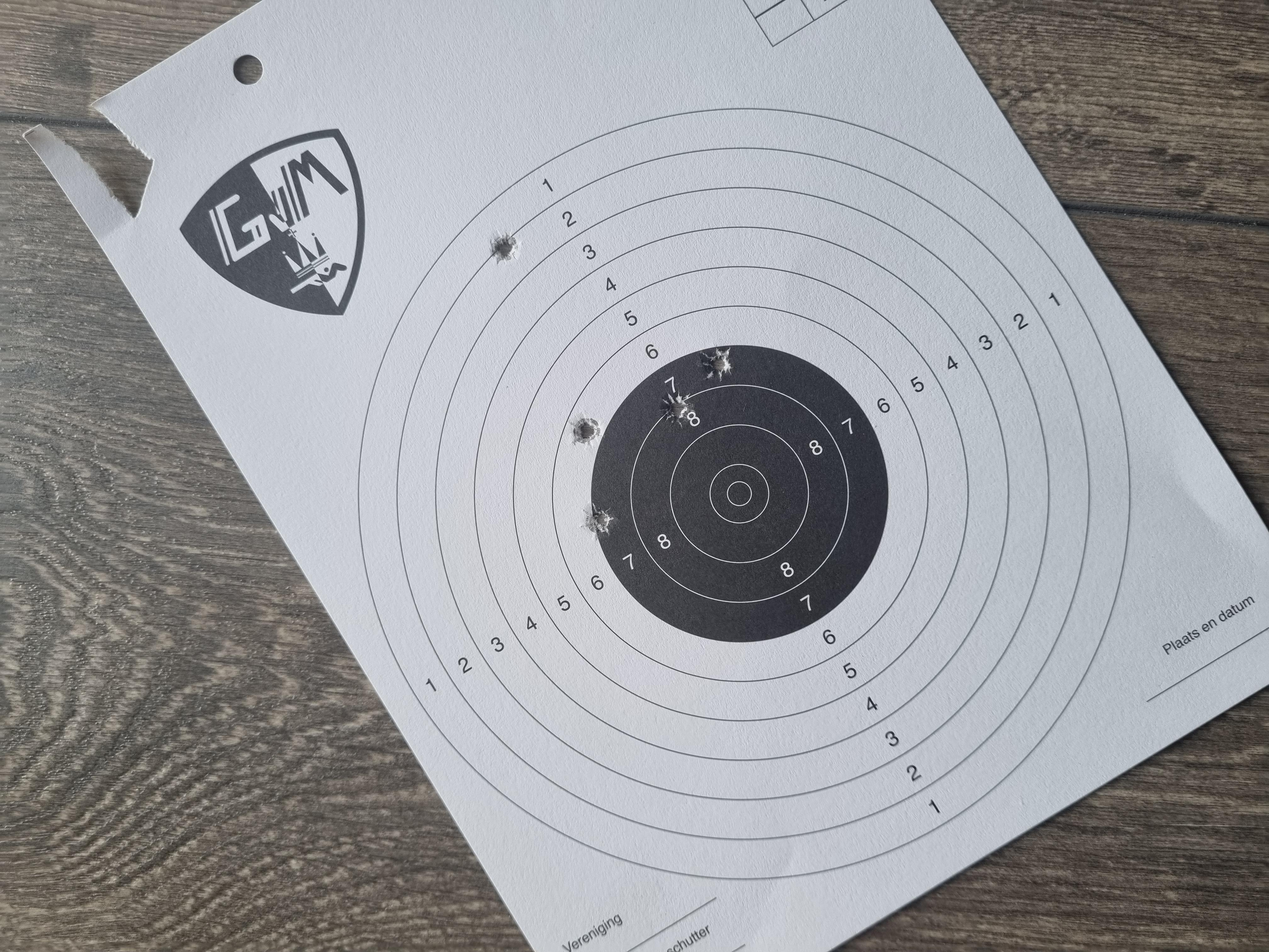hole: (547, 437, 598, 460), (703, 496, 747, 519), (763, 527, 807, 549), (676, 428, 712, 450), (918, 368, 955, 388)
